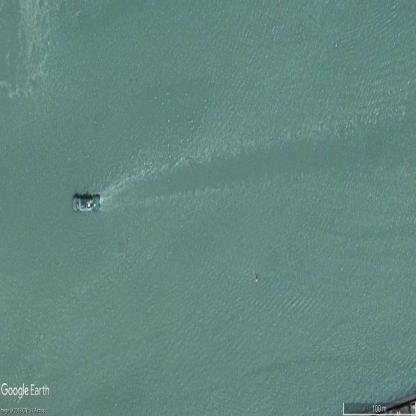ship: (73, 193, 102, 212)
